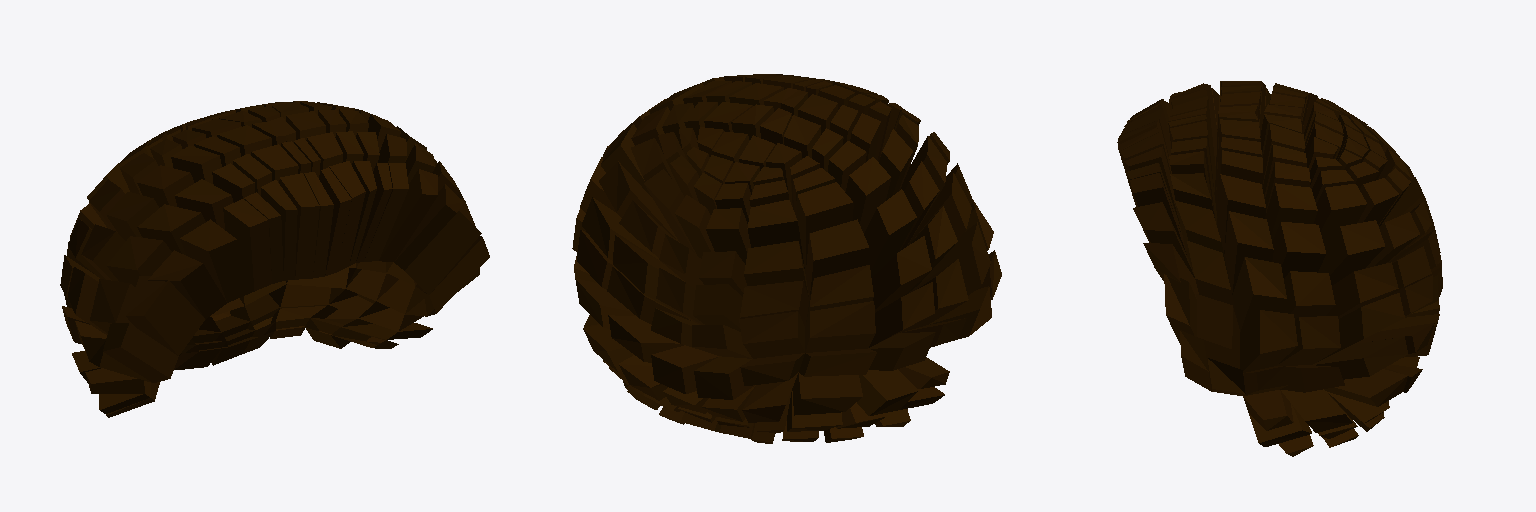
The model's file is Hair.obj.
3 renders of one model, left to right at view 1: azimuth 30°, elevation 25°; view 2: azimuth 150°, elevation 25°; view 3: azimuth 270°, elevation 25°, orthographic.
Visible parts, largest first — view 1: polySurface35 polySurface7; view 2: polySurface35 polySurface7; view 3: polySurface35 polySurface7.
Part boxes in pixels (left/top/right/bottom): polySurface35 polySurface7: left=60, top=101, right=489, bottom=417; polySurface35 polySurface7: left=572, top=74, right=1001, bottom=443; polySurface35 polySurface7: left=1117, top=81, right=1442, bottom=456.
Bounding box in the file's own units: 17.56 × 12.47 × 12.78.